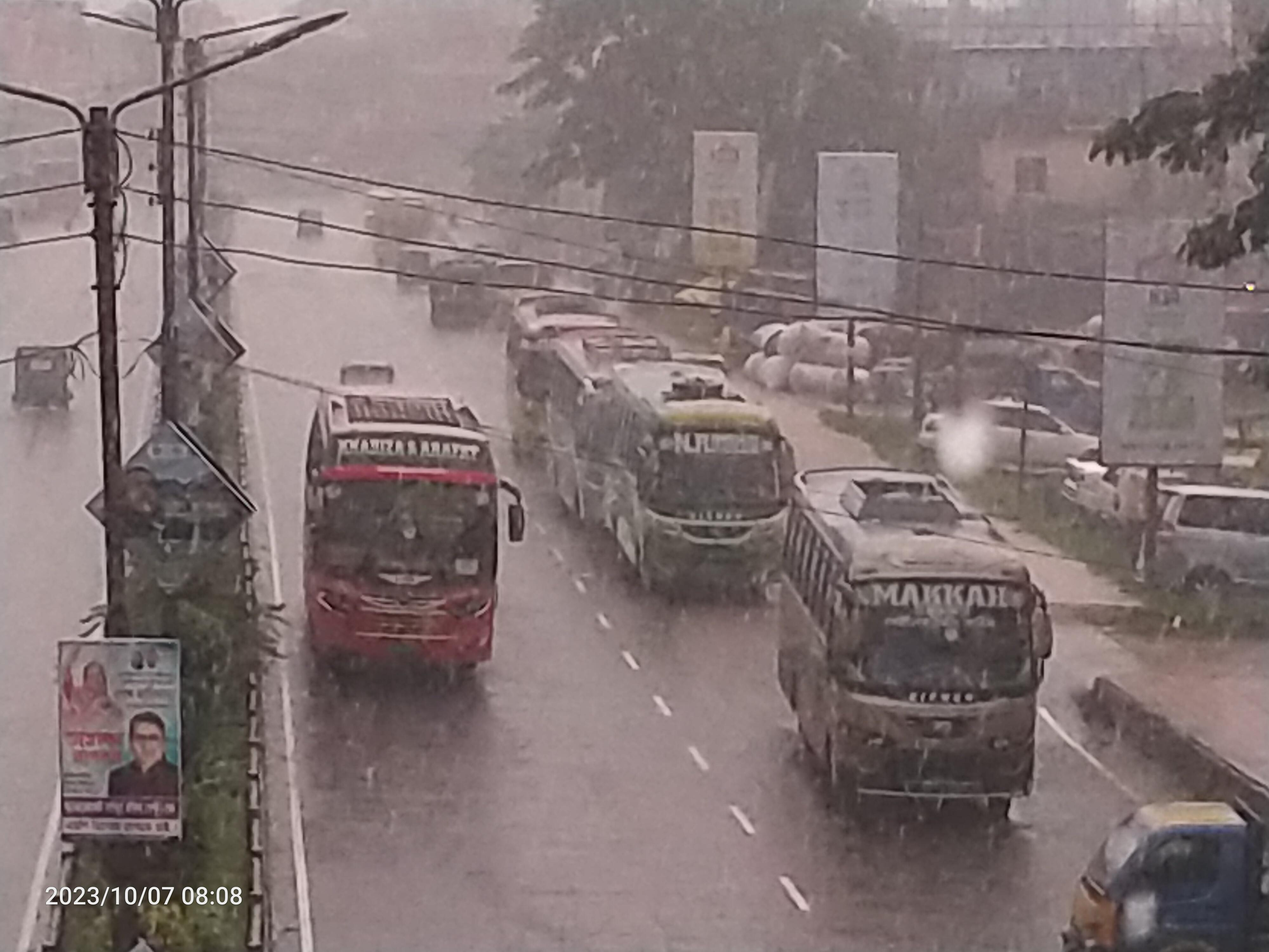Bus: (755, 446, 1055, 852), (270, 329, 529, 721), (582, 337, 799, 601), (486, 284, 607, 494)
Car: (1113, 462, 1269, 644), (908, 387, 1132, 491), (1061, 429, 1160, 557)
